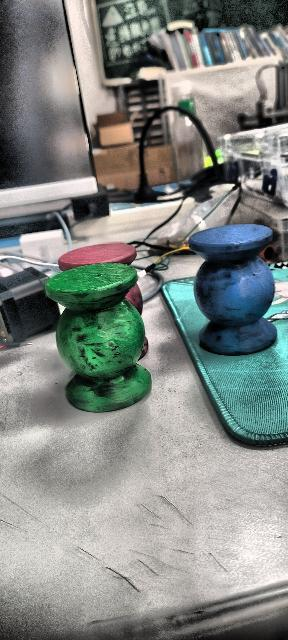blue: (188, 223, 276, 355)
green: (40, 263, 171, 436)
red: (56, 235, 150, 310)
